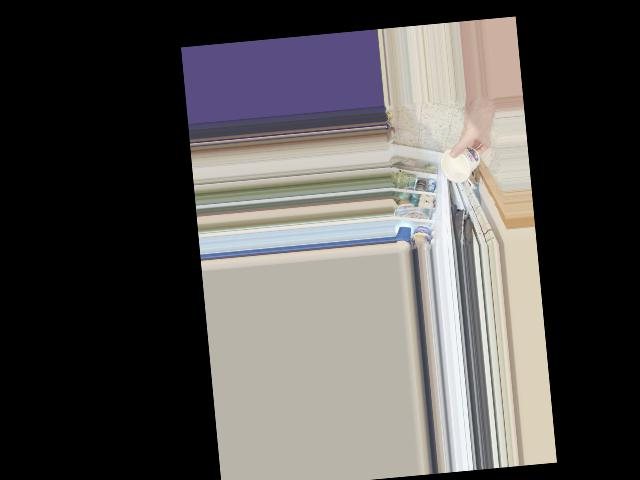cotage: (441, 143, 483, 183)
